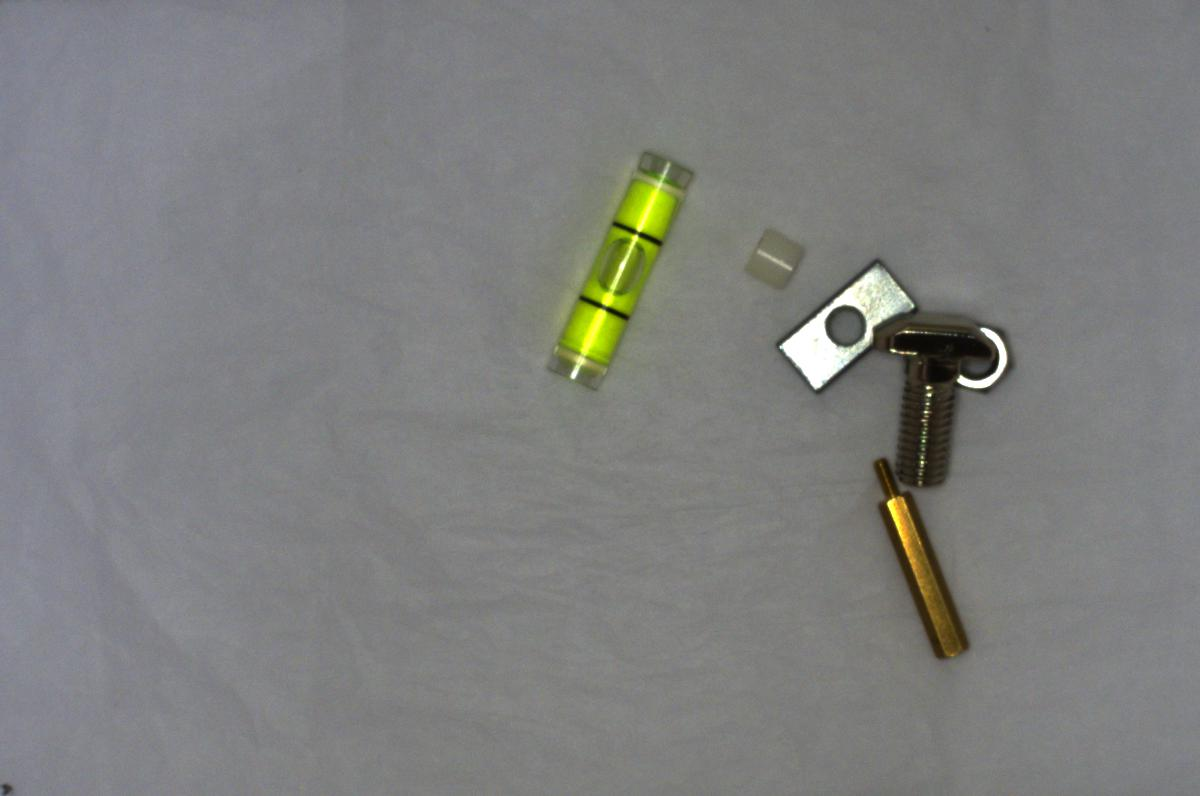Hexagon nut: (956, 306, 1032, 400)
Hexagon pillar: (870, 449, 979, 669)
Horizontal bubble: (520, 139, 694, 400)
Plastic cushion pillar: (742, 222, 806, 289)
Rectangular nut: (761, 263, 923, 394)
T-shaped screw: (878, 305, 982, 489)
